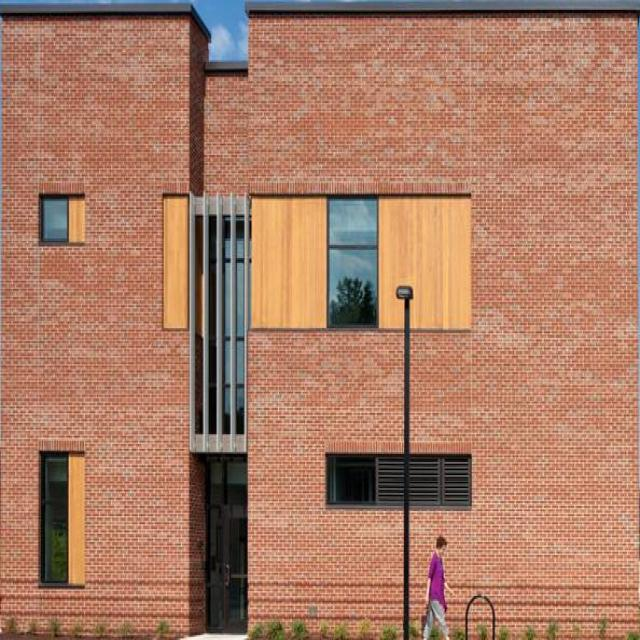door: (205, 470, 249, 636)
wall: (0, 0, 639, 637)
windows: (327, 196, 379, 328), (38, 450, 68, 588), (36, 194, 70, 243)
